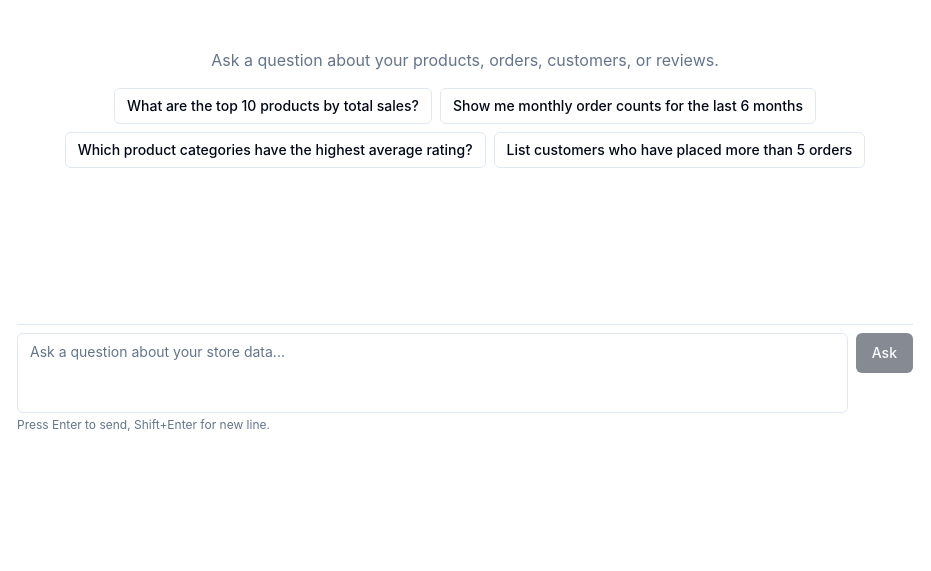
AiAnalyticsChat › does not render chart when visualization is null
Step 1. Type "Simple query" into the text box with placeholder "Ask a question about your store data..." → (432, 373), box x1=17 y1=333 x2=848 y2=413
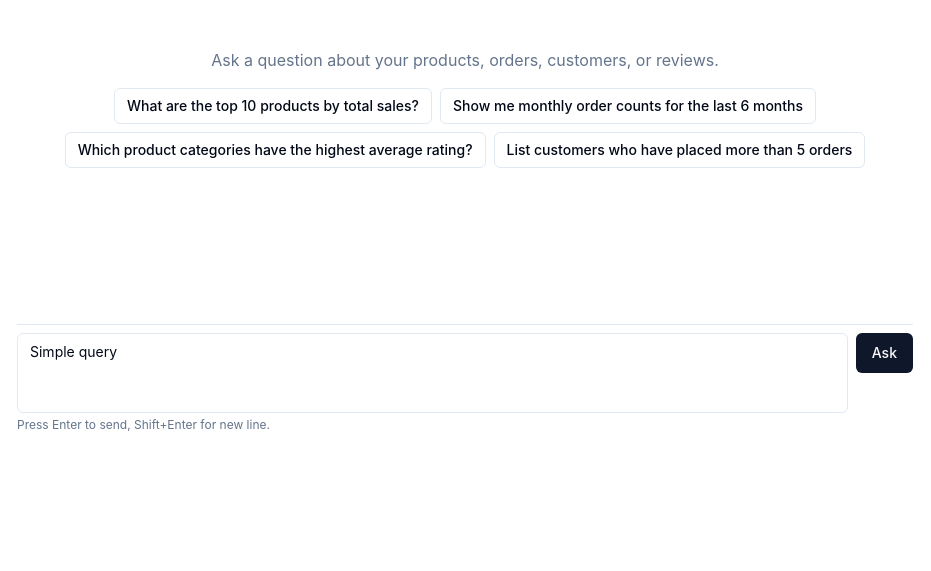
Step 2. Click the button "Ask" → (884, 353), box x1=856 y1=333 x2=913 y2=373
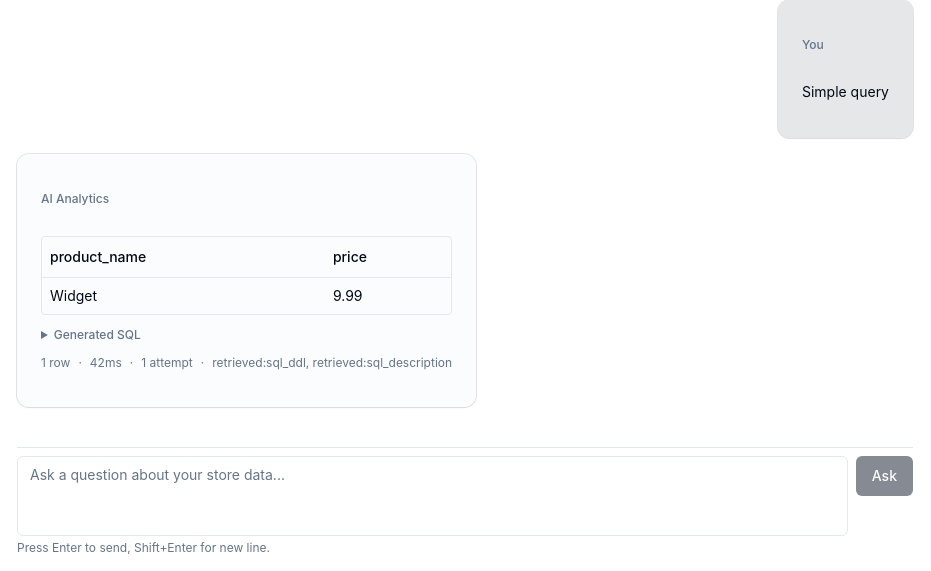
expect the column heading "product_name" is shown: met, box x1=42 y1=237 x2=325 y2=277
expect the text "Widget" is shown: met, box x1=50 y1=286 x2=97 y2=304
